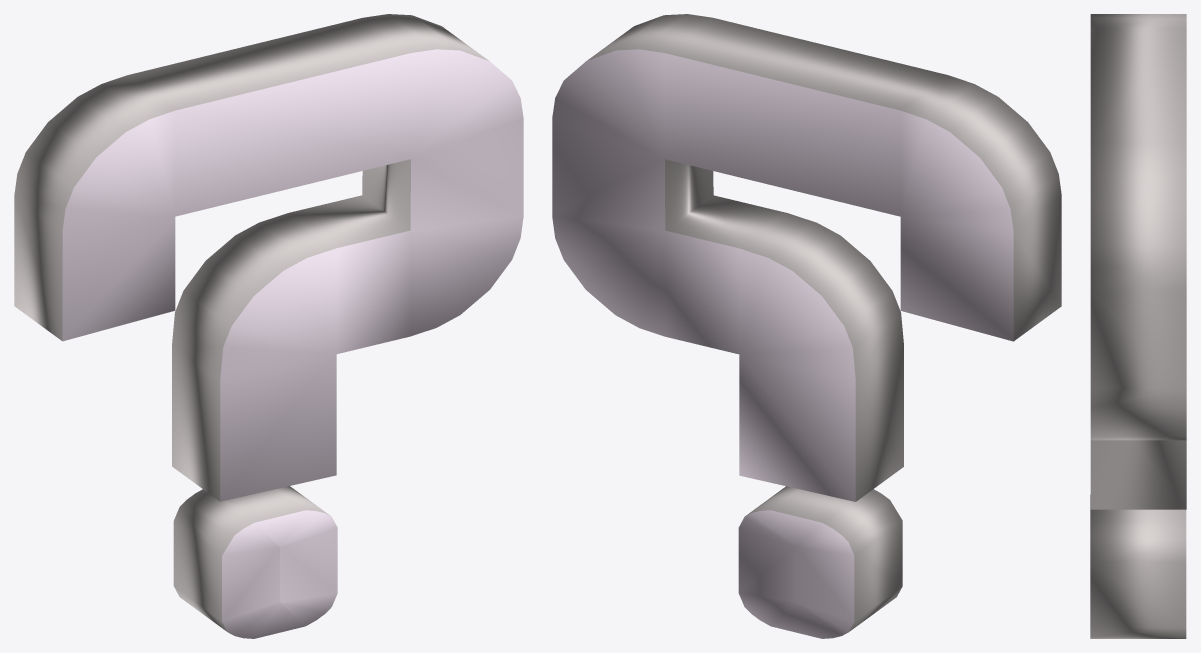
The picture shows the model from 3 angles, left to right: view 1: azimuth 30°, elevation 25°; view 2: azimuth 150°, elevation 25°; view 3: azimuth 270°, elevation 25°; orthographic projection.
Visible parts, largest first — view 1: unknown; view 2: unknown; view 3: unknown.
Part boxes in pixels (x1=…): unknown: x1=14, y1=14, x2=523, y2=638; unknown: x1=552, y1=14, x2=1061, y2=638; unknown: x1=1090, y1=14, x2=1186, y2=638.
Size of the model in its own units: 116 by 132 by 21.14.
